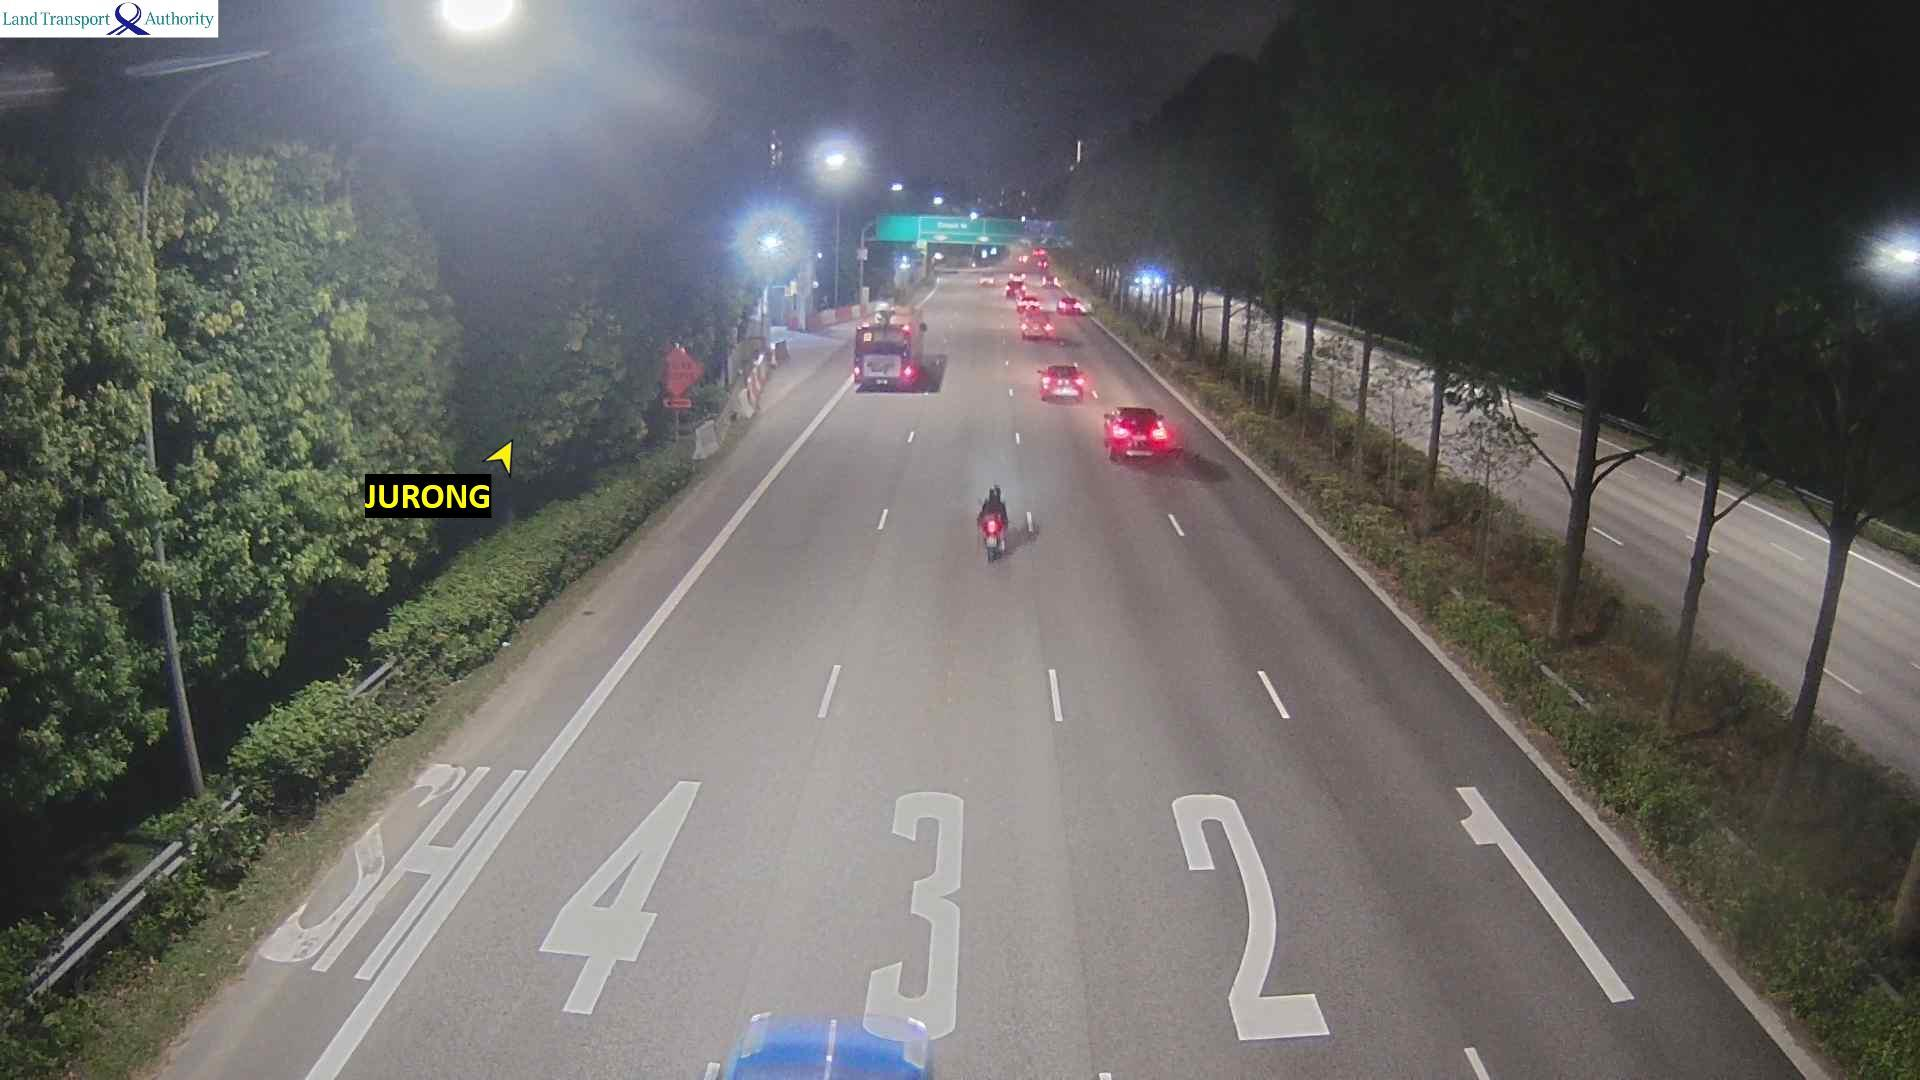bus: (852, 306, 927, 392)
cars: (702, 1010, 932, 1079), (1102, 405, 1176, 462), (1036, 361, 1087, 402), (1018, 311, 1056, 342), (1055, 294, 1087, 314), (1004, 273, 1025, 298), (1015, 294, 1040, 314), (1042, 272, 1060, 287), (977, 274, 996, 286), (1033, 247, 1047, 258), (1015, 255, 1031, 265), (1038, 260, 1048, 269)
motorcycle: (976, 504, 1007, 562)
